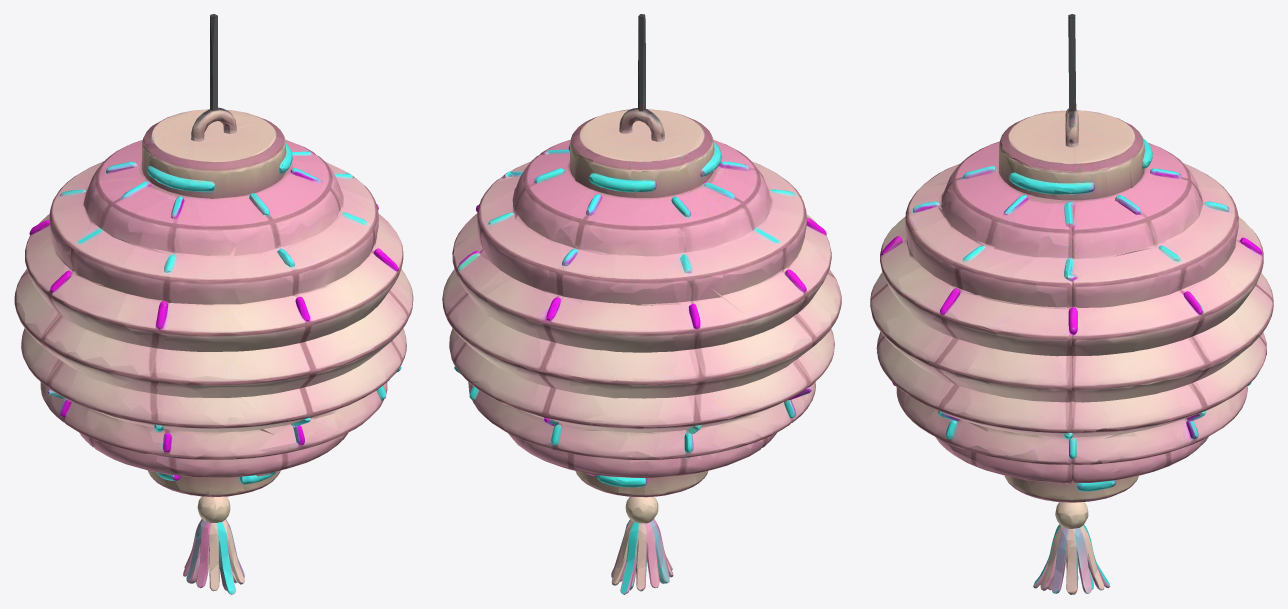
Rendered from paper-lantern-3d-20261102-110842.glb.
3 renders of one model, left to right at view 1: azimuth 30°, elevation 25°; view 2: azimuth 150°, elevation 25°; view 3: azimuth 270°, elevation 25°, orthographic.
Parts seen in each view (by area): view 1: Mesh_0; view 2: Mesh_0; view 3: Mesh_0.
Boxes of the visible parts, x1,y1,x2,y2 form: Mesh_0: (14,14,413,594); Mesh_0: (442,14,841,594); Mesh_0: (870,14,1273,594).
Size of the model in its own units: 1.21 by 1.9 by 1.22.
1 material, 1 textured.
